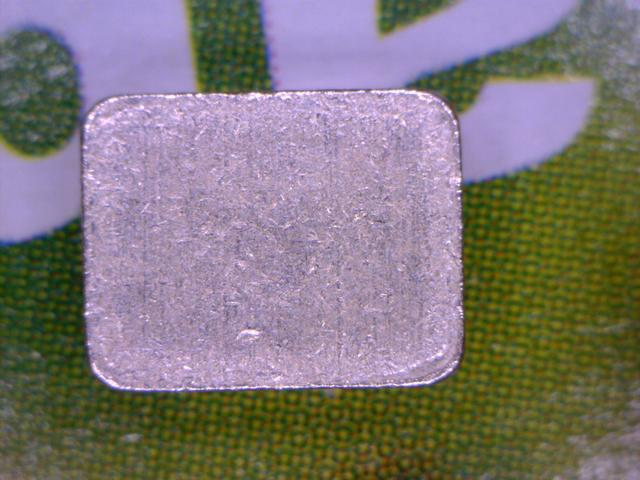ok: (72, 82, 476, 392)
